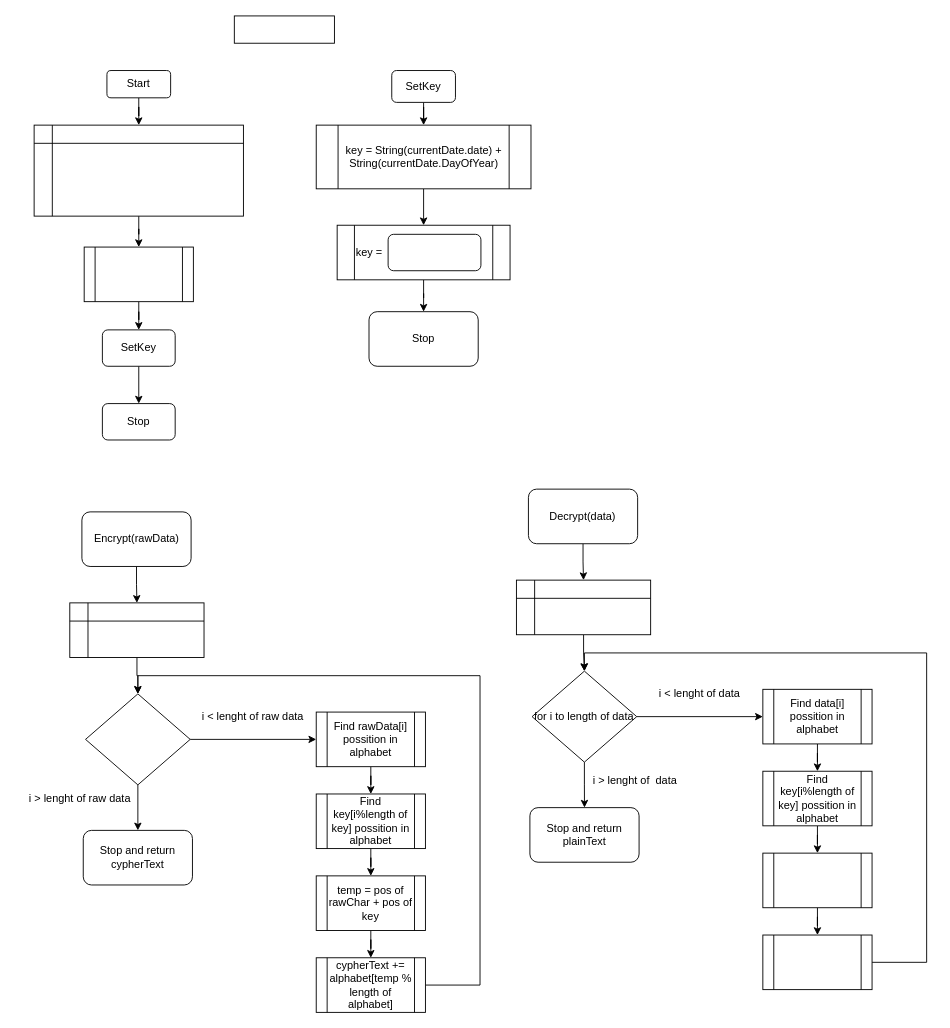
Some shapes in this 950 by 1028 pixel diagram are drawn without their labels. The shapes that lost their labels are listed below. From the top down, each one's centre as x and y in pixels, then its label:
the point at 283,29: Encryption.cs
the point at 138,170: String key DateTime currentDate Char[] alphabet = Ascii.printable()
the point at 434,252: Encrypt(key)
the point at 138,274: currentDate = DateTime.Now
the point at 583,607: String plainText
the point at 136,629: String cypherText
the point at 137,739: for i to length of rawData
the point at 817,880: temp = pos of dataChar - pos of key
the point at 817,962: plainText += alphabet[temp % length of alphabet]
